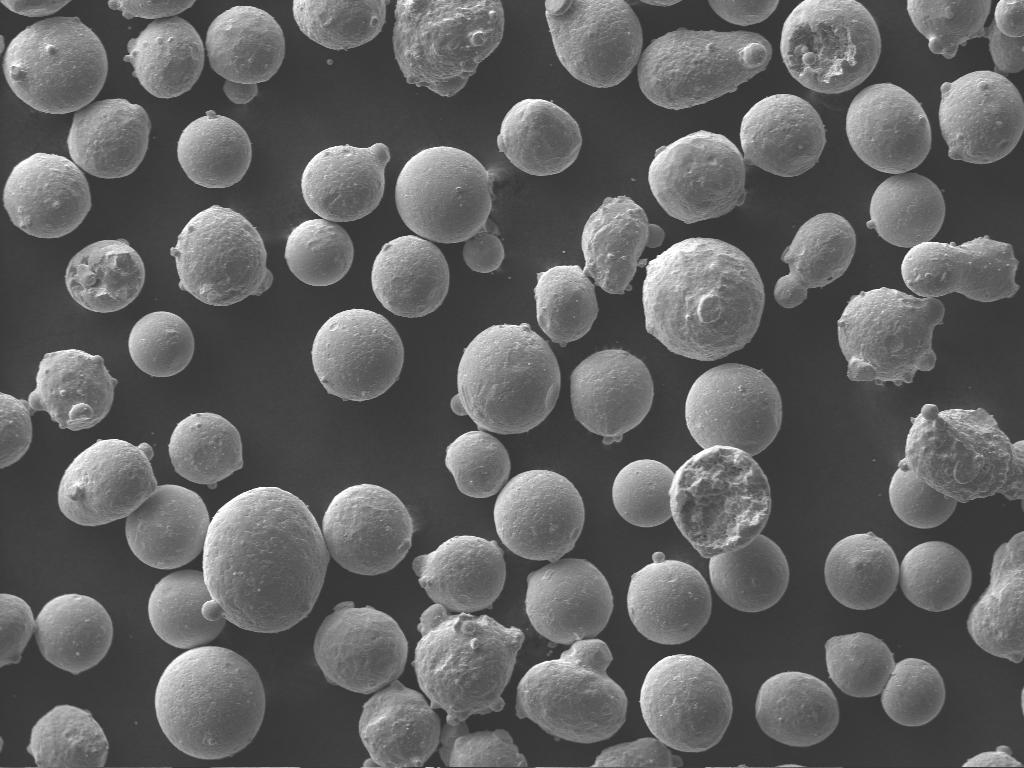Powder: (200, 488, 326, 633), (643, 238, 764, 360), (155, 646, 264, 759), (451, 324, 560, 434), (669, 445, 770, 556), (637, 28, 771, 109), (393, 0, 503, 96), (838, 288, 943, 384), (171, 205, 271, 305), (780, 0, 880, 93), (395, 146, 490, 243), (640, 654, 731, 751), (648, 131, 744, 222), (685, 363, 781, 454), (314, 601, 407, 693), (545, 0, 642, 87), (58, 439, 156, 525), (312, 309, 403, 400), (494, 470, 584, 561), (322, 484, 412, 574), (582, 196, 664, 293), (939, 71, 1023, 163), (627, 552, 711, 644), (774, 213, 855, 307), (206, 6, 284, 103), (846, 83, 930, 173), (525, 558, 612, 644), (3, 153, 90, 237), (28, 349, 116, 430), (412, 536, 505, 612), (125, 485, 209, 568), (740, 94, 825, 176), (359, 680, 440, 766), (302, 143, 389, 221), (124, 16, 204, 97), (68, 99, 150, 178), (497, 99, 581, 175), (371, 236, 449, 317), (755, 671, 838, 746), (35, 594, 112, 673), (867, 172, 944, 247), (65, 239, 144, 312), (824, 532, 898, 609), (177, 110, 251, 187), (169, 413, 242, 487), (534, 266, 597, 346), (27, 705, 108, 767), (900, 541, 971, 611), (907, 0, 990, 58), (293, 0, 385, 49), (285, 219, 353, 285), (825, 632, 894, 696), (881, 658, 944, 726), (445, 431, 509, 497), (129, 311, 193, 376), (612, 459, 673, 526)
